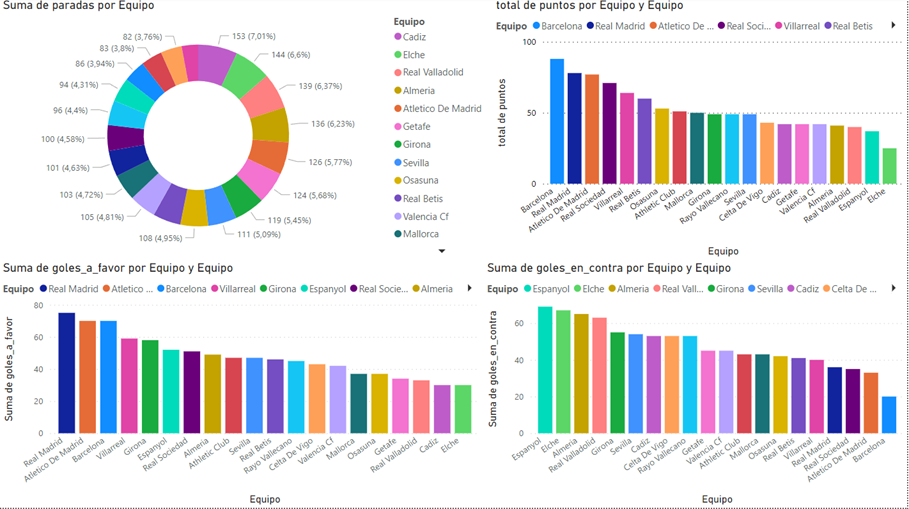

Layout of this report page (visuals, bound fields, positions):
{"tool":"powerbi","page":{"name":"Página 3","canvas":[1280,720],"ordinal":2},"visuals":[{"type":"columnChart","fields":{"Y":["Max(clasificacion.total_puntos)"],"Category":["clasificacion.Equipo"],"Series":["clasificacion.Equipo"]},"box":[695.1,0,585.2,370.4],"z":0},{"type":"columnChart","fields":{"Category":["clasificacion.Equipo"],"Y":["Sum(clasificacion.goles_a_favor)"],"Series":["clasificacion.Equipo"]},"box":[0,370.4,682.7,349.4],"z":1000},{"type":"columnChart","fields":{"Category":["clasificacion.Equipo"],"Y":["Sum(clasificacion.goles_en_contra)"],"Series":["clasificacion.Equipo"]},"box":[682.7,370.4,597.5,349.4],"z":2000},{"type":"donutChart","fields":{"Category":["clasificacion.Equipo"],"Y":["Sum(jugadores.paradas)"]},"box":[0,0,695.1,370.4],"z":3000}]}

Visuals, with their boxes in screenshot pixels (x1, y1, x2, y2), scaled from the page's 1280x720 canvas onto the 909x509 screenshot:
columnChart - Max(clasificacion.total_puntos) x clasificacion.Equipo: [494,0,908,262]
columnChart - clasificacion.Equipo x Sum(clasificacion.goles_a_favor): [0,262,485,508]
columnChart - clasificacion.Equipo x Sum(clasificacion.goles_en_contra): [485,262,908,508]
donutChart - clasificacion.Equipo x Sum(jugadores.paradas): [0,0,494,262]
